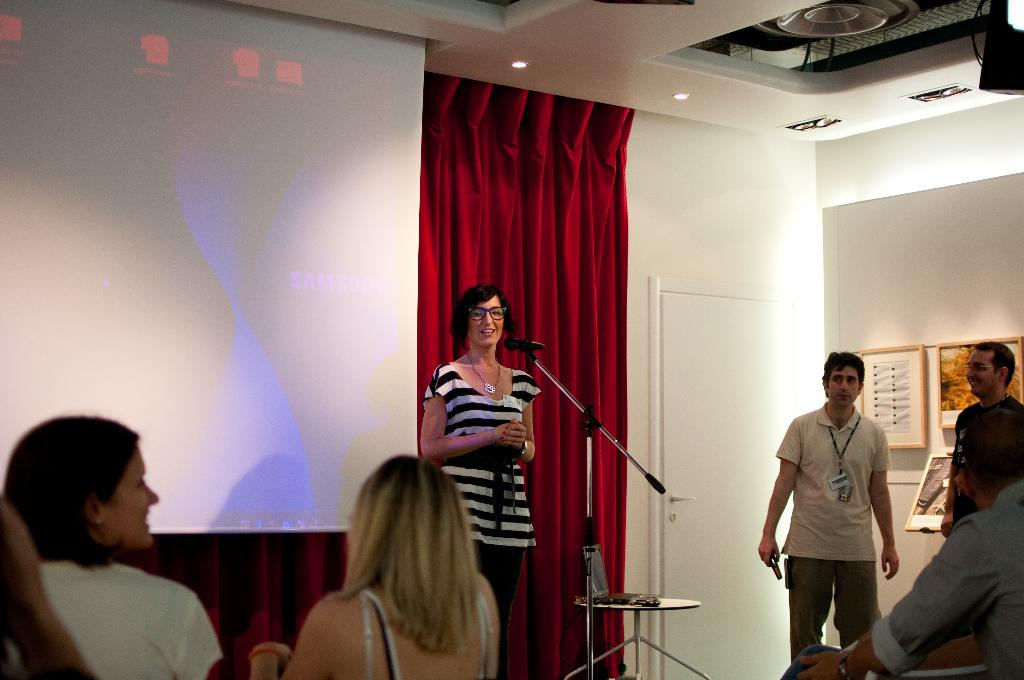Human-face: (97, 443, 159, 548), (964, 352, 1000, 403), (468, 296, 502, 347), (830, 367, 863, 403)
